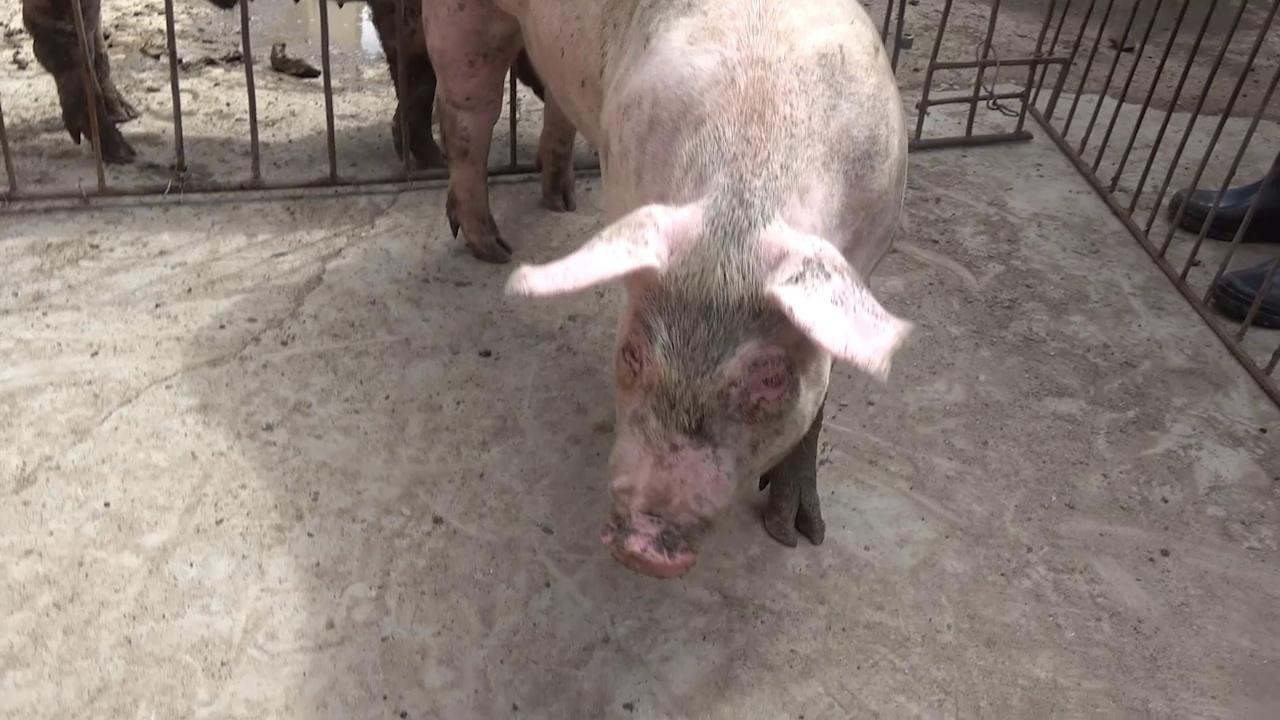Face: (500, 207, 914, 585)
